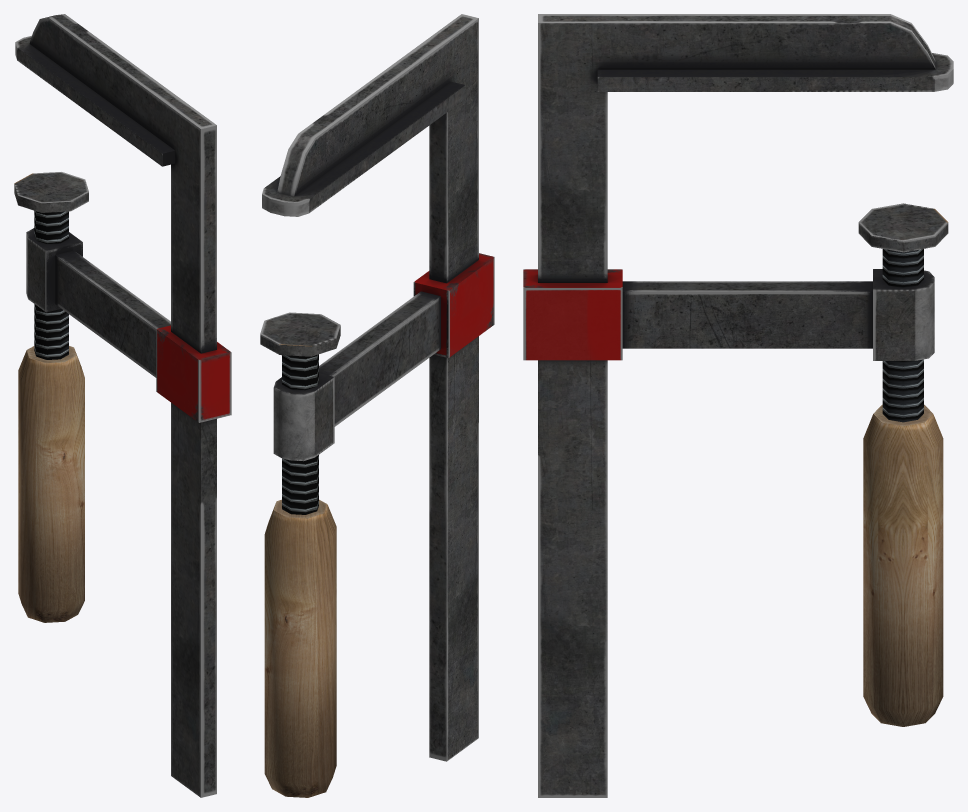
Rendered from clamps.fbx.
3 renders of one model, left to right at view 1: azimuth 30°, elevation 25°; view 2: azimuth 150°, elevation 25°; view 3: azimuth 270°, elevation 25°, orthographic. The views are drawn at different scales.
Parts seen in each view (by area): view 1: Clamp_Body, Clamp_handle, Clamp_Slider; view 2: Clamp_Body, Clamp_handle, Clamp_Slider; view 3: Clamp_Body, Clamp_handle, Clamp_Slider.
Boxes of the visible parts, x1,y1,x2,y2 form: Clamp_Body: (15,14,216,797); Clamp_handle: (14,172,88,622); Clamp_Slider: (26,228,231,422); Clamp_Body: (262,14,478,761); Clamp_handle: (260,312,340,797); Clamp_Slider: (273,253,494,461); Clamp_Body: (538,14,953,797); Clamp_handle: (858,203,948,726); Clamp_Slider: (523,269,934,360).
Bounding box in the file's own units: 0.8476 × 8.07 × 4.06.
